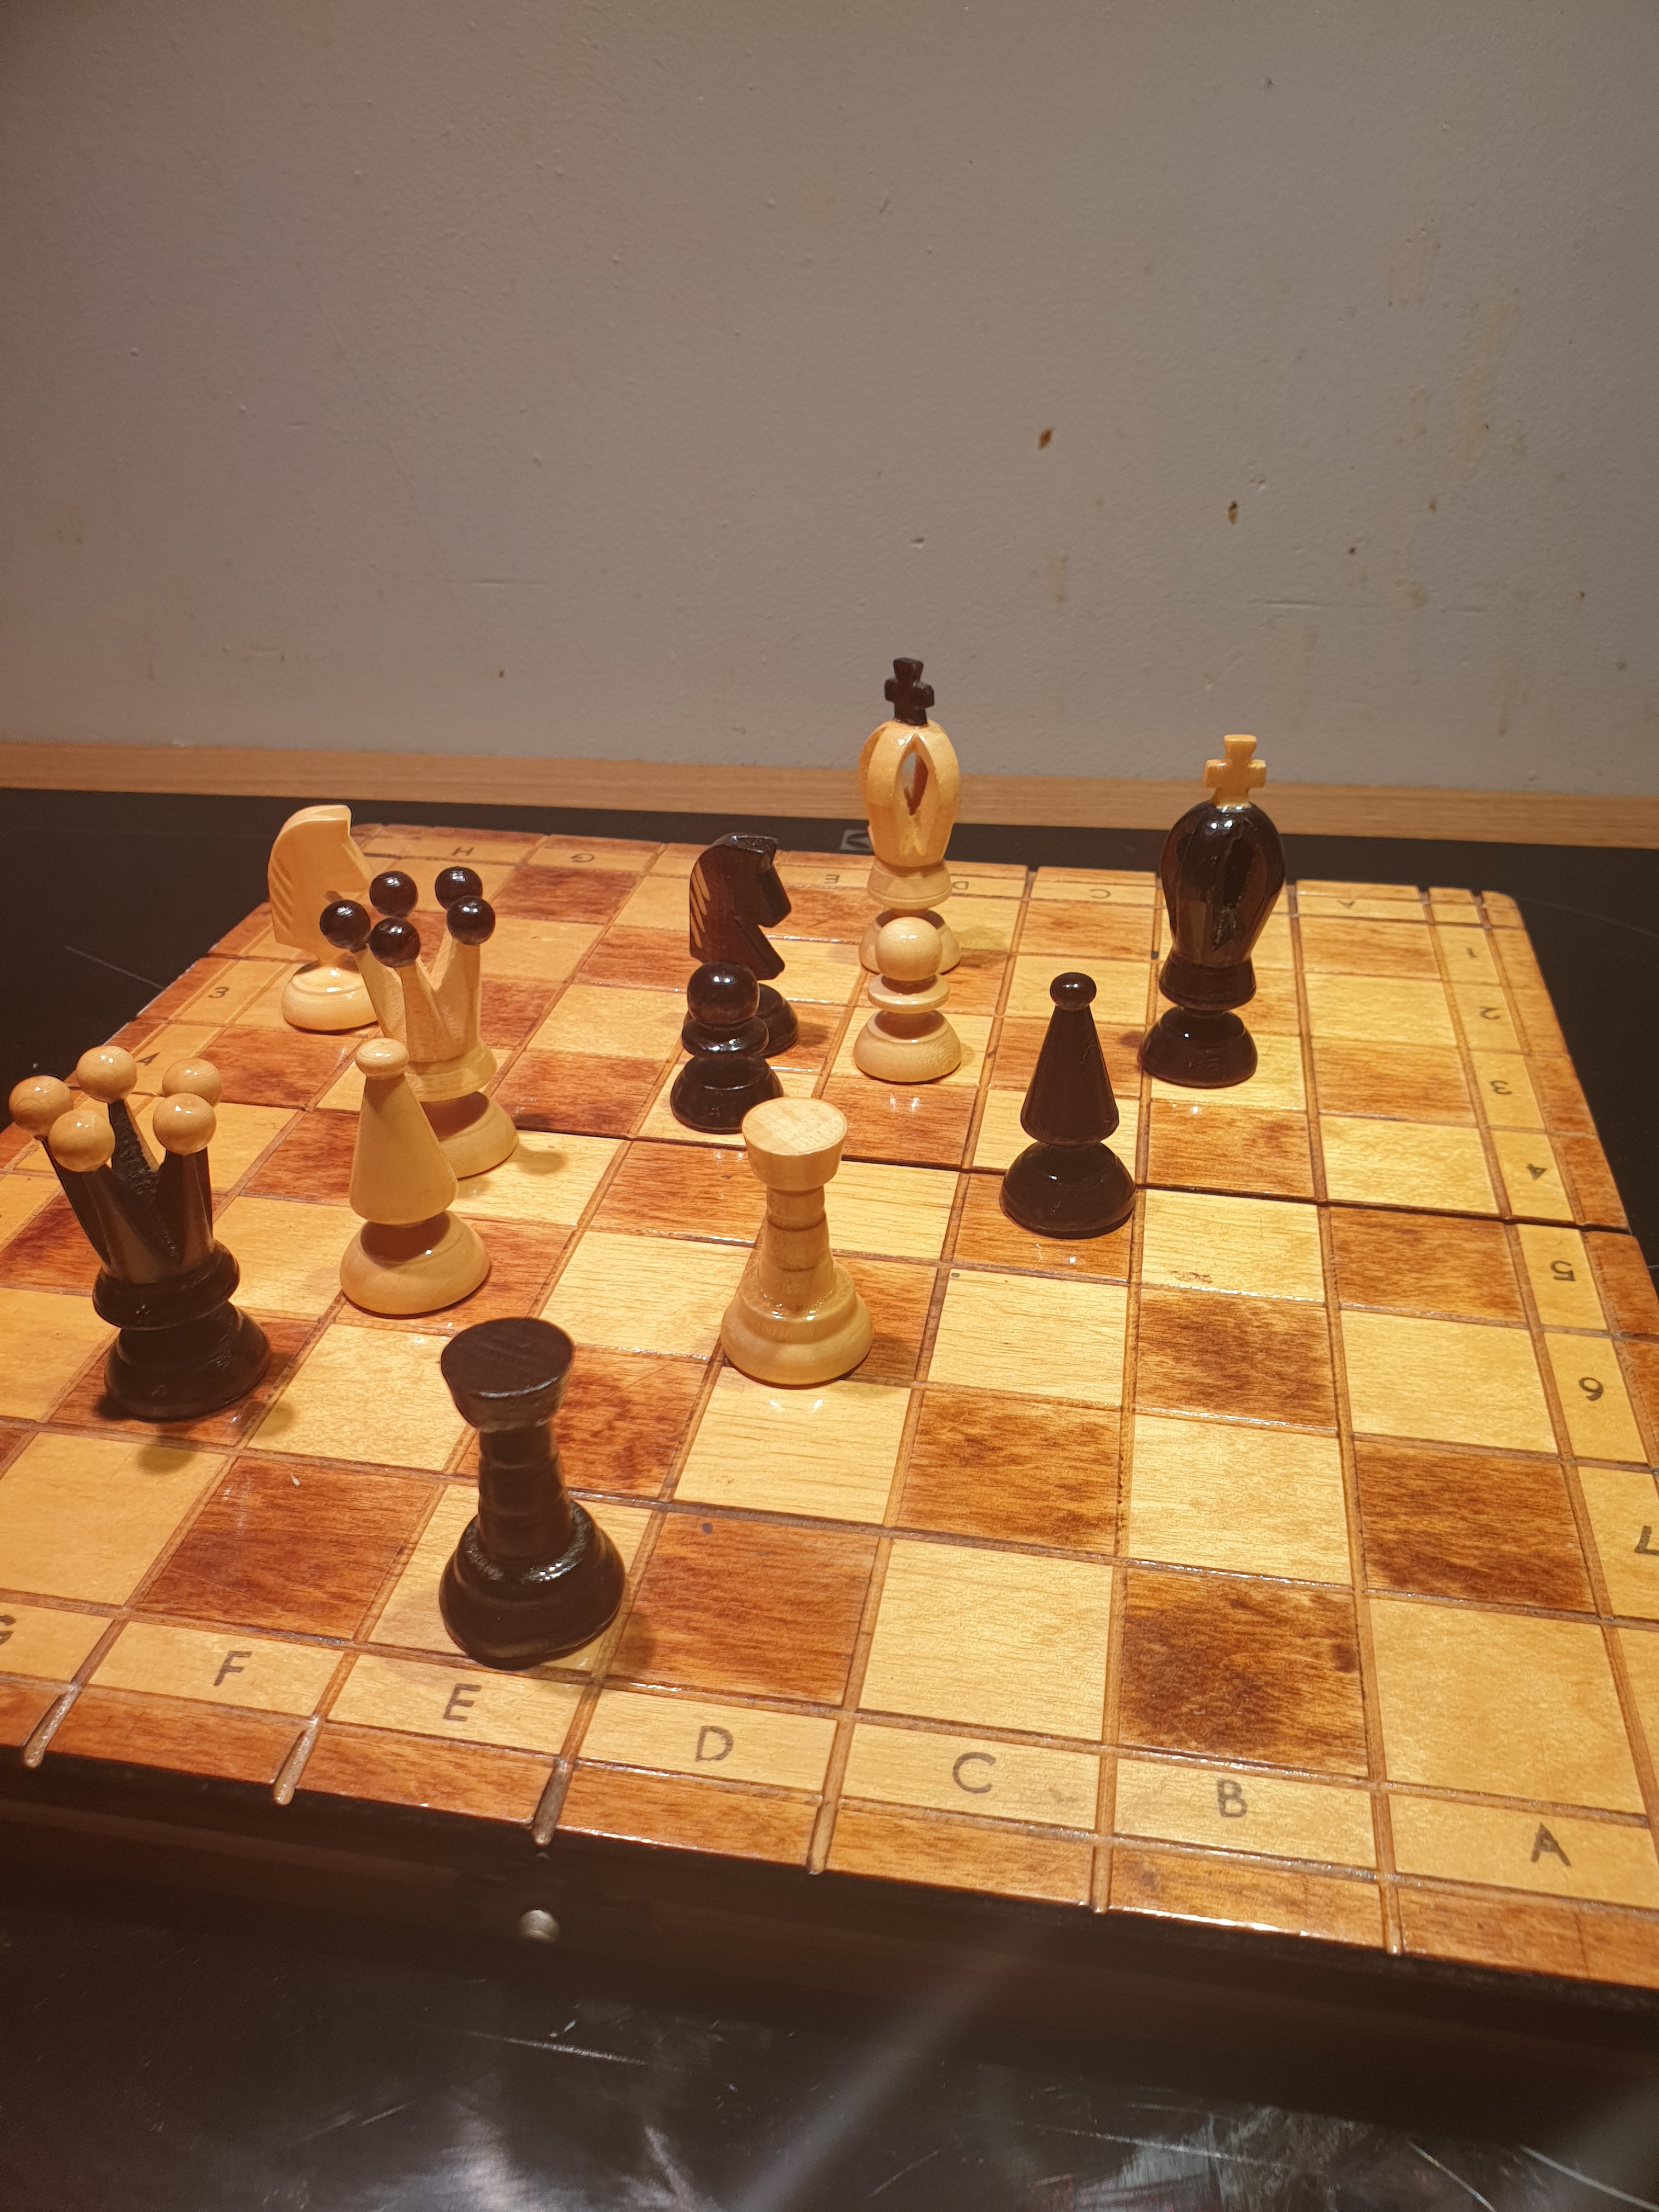bbishop: (985, 956, 1148, 1252)
bking: (1126, 719, 1307, 1106)
bknight: (671, 822, 810, 1062)
bpawn: (660, 937, 805, 1151)
bqueen: (5, 1031, 305, 1446)
brook: (415, 1310, 641, 1662)
wbishop: (324, 1019, 505, 1332)
wking: (842, 646, 979, 986)
wknight: (256, 792, 418, 1043)
wpawn: (842, 906, 974, 1099)
wqueen: (321, 850, 552, 1197)
wrook: (704, 1085, 889, 1399)
